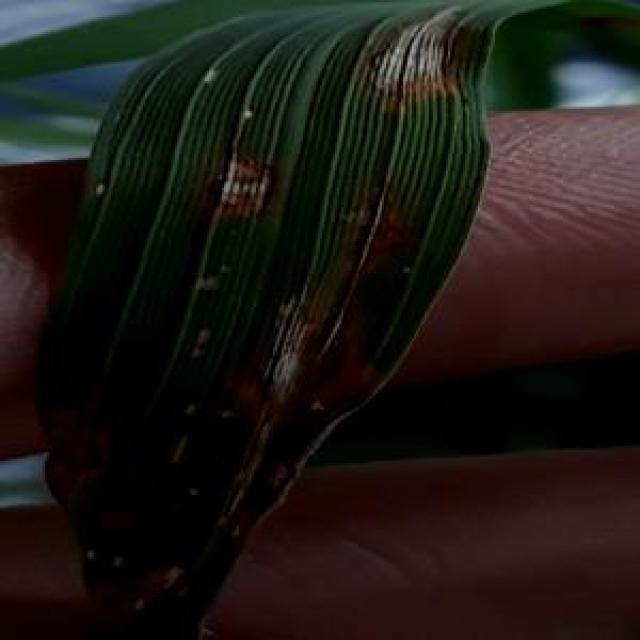Leaf_Blast: (218, 271, 386, 407), (365, 0, 488, 130), (2, 376, 107, 497), (196, 137, 292, 228), (92, 488, 160, 538)
